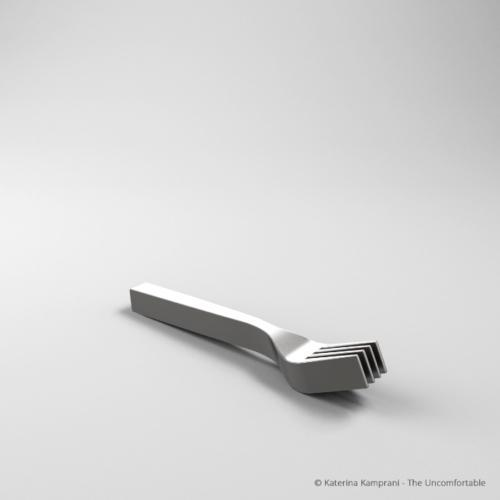Fork: (129, 281, 387, 395)
